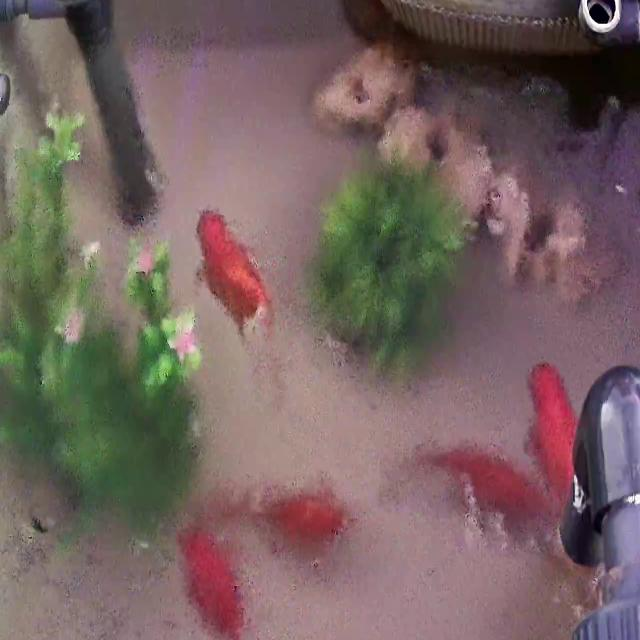fish: (194, 208, 275, 342), (424, 448, 556, 526), (179, 523, 264, 640), (525, 355, 573, 526), (256, 488, 348, 548)
